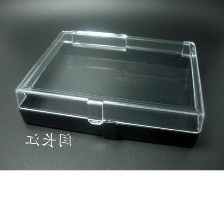plastic_box: (9, 22, 211, 141)
